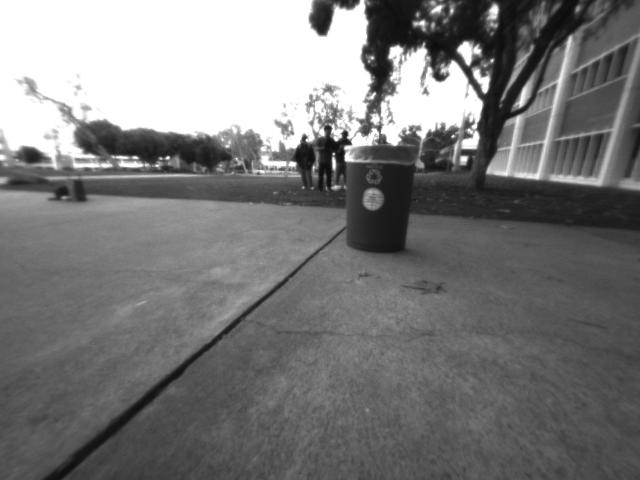trashcan_open: (339, 142, 416, 257)
